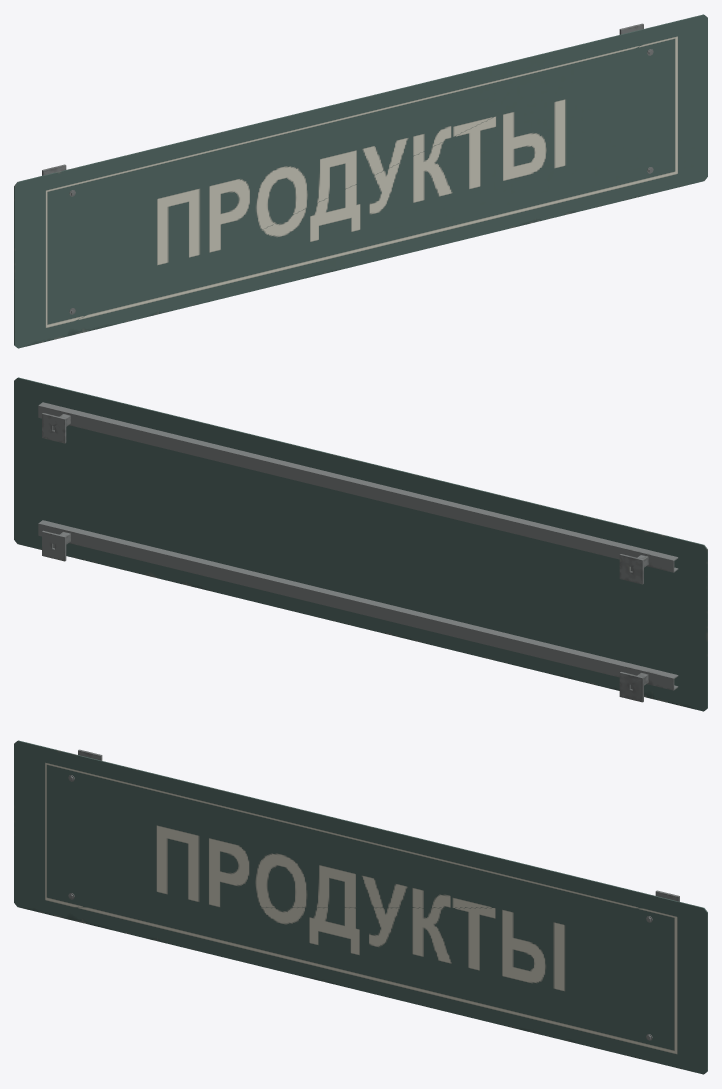
The model's file is shop_cyrillic_signs_grocery.glb.
3 views of the same model, one above another, from view 1: azimuth 30°, elevation 25°; view 2: azimuth 150°, elevation 25°; view 3: azimuth 330°, elevation 25° (orthographic).
Visible parts, largest first — view 1: ShopSignGrocery; view 2: ShopSignGrocery; view 3: ShopSignGrocery.
Part boxes in pixels (<box>): ShopSignGrocery: <box>14,14,707,348</box>; ShopSignGrocery: <box>14,377,707,711</box>; ShopSignGrocery: <box>14,740,707,1074</box>.
Bounding box in the file's own units: 2.4 × 0.55 × 0.12.
Materials: 1 (1 with a texture image).
